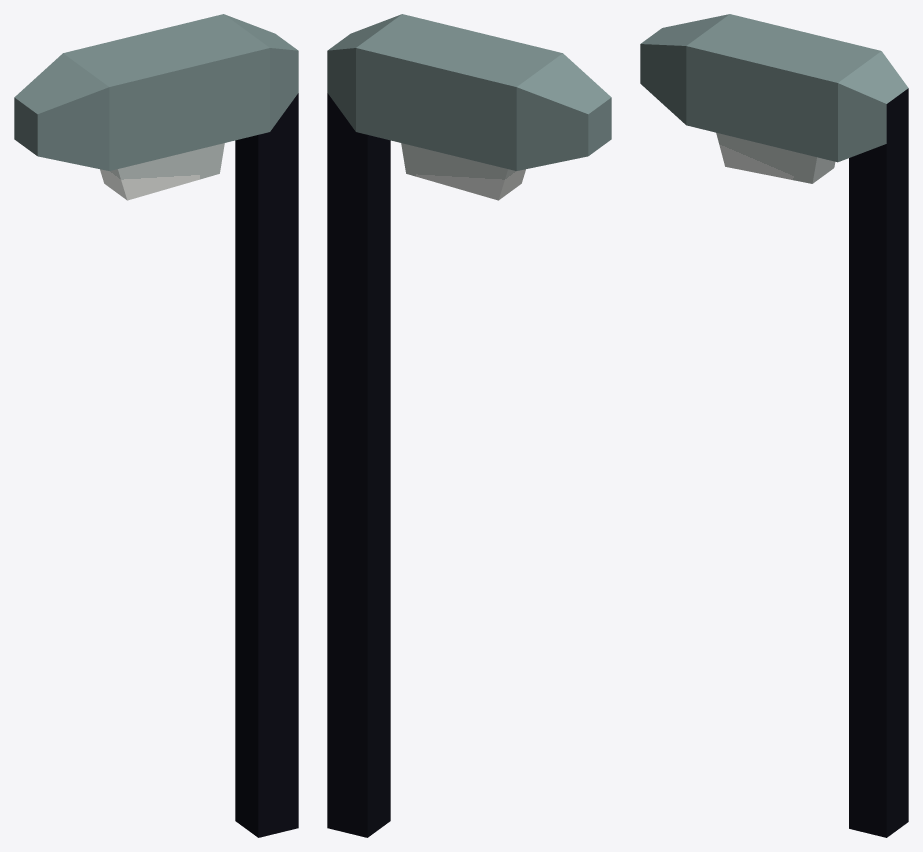
File: Poste.obj
3 views of the same model, side by side, from view 1: azimuth 30°, elevation 25°; view 2: azimuth 150°, elevation 25°; view 3: azimuth 330°, elevation 25° (orthographic). The views are drawn at different scales.
Parts seen in each view (by area): view 1: cuboid; view 2: cuboid; view 3: cuboid.
Boxes of the visible parts, x1,y1,x2,y2 form: cuboid: [14, 14, 298, 837]; cuboid: [327, 14, 611, 837]; cuboid: [640, 14, 908, 837].
Size of the model in its own units: 0.8125 by 2.38 by 0.25.
